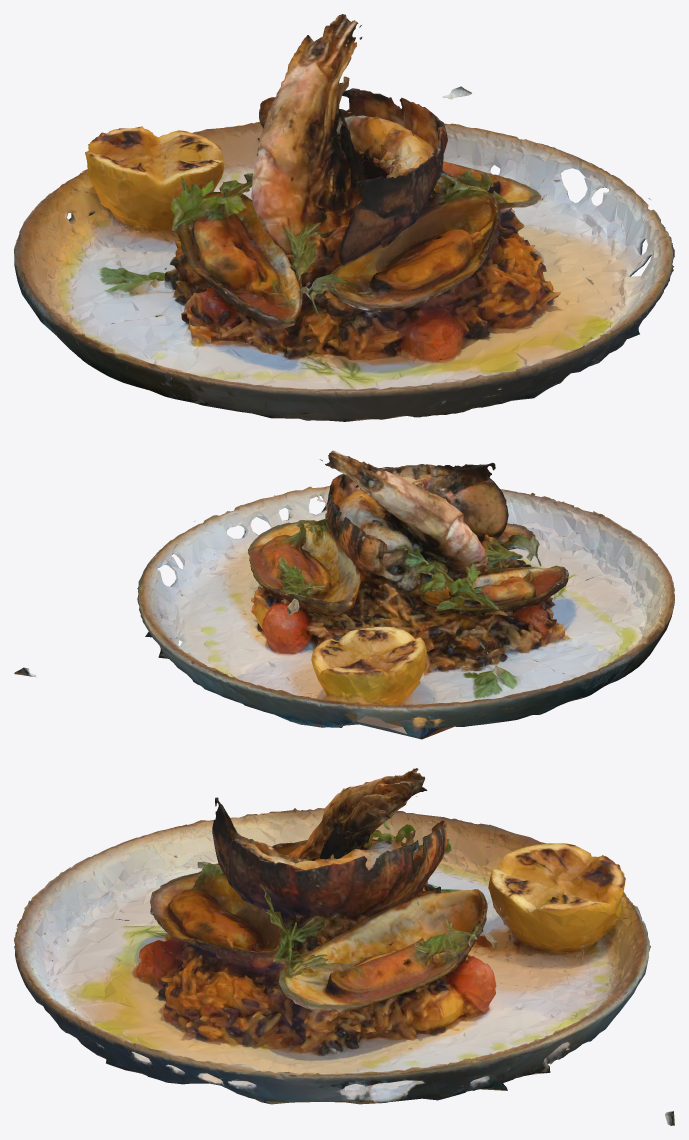
File: arroz.glb
The picture shows the model from 3 angles, top to bottom: view 1: azimuth 30°, elevation 25°; view 2: azimuth 150°, elevation 25°; view 3: azimuth 270°, elevation 25°; orthographic projection. The views are drawn at different scales.
Parts seen in each view (by area): view 1: model_tex_u1_v1_0; view 2: model_tex_u1_v1_0; view 3: model_tex_u1_v1_0.
Boxes of the visible parts, x1,y1,x2,y2 form: model_tex_u1_v1_0: (14,14,674,421); model_tex_u1_v1_0: (14,450,674,739); model_tex_u1_v1_0: (14,768,674,1125).
Bounding box in the file's own units: 0.2768 × 0.1064 × 0.278.
Materials: 1 (1 with a texture image).
